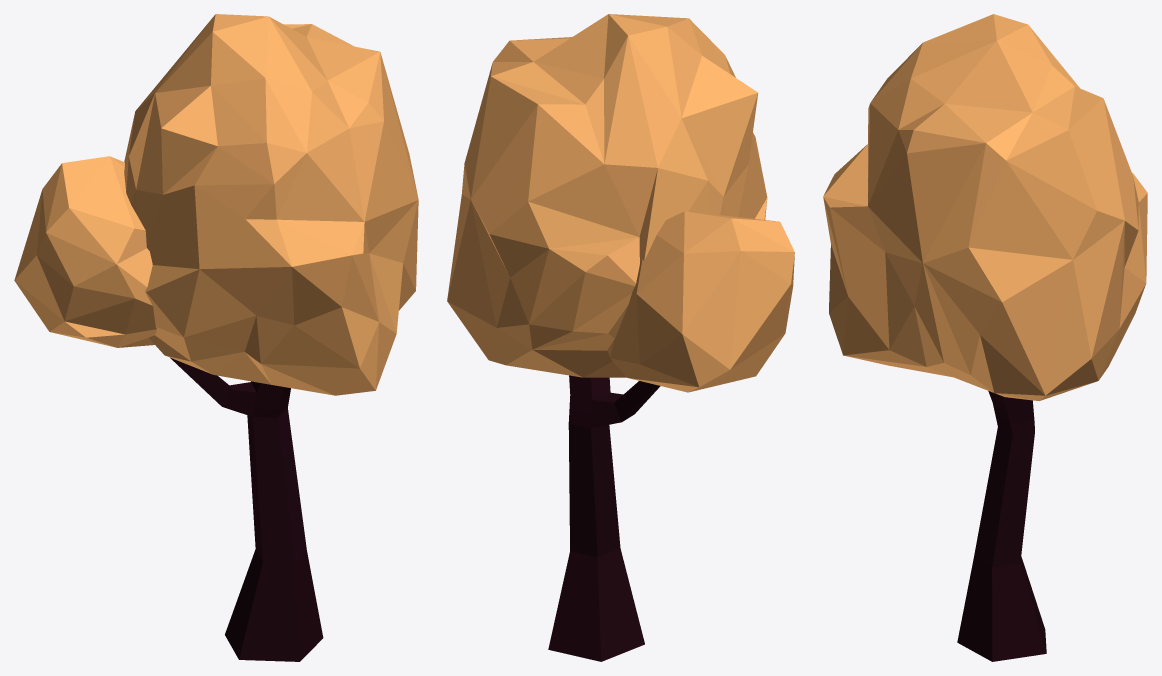
The model's file is Tree3.fbx.
The picture shows the model from 3 angles, left to right: view 1: azimuth 30°, elevation 25°; view 2: azimuth 150°, elevation 25°; view 3: azimuth 270°, elevation 25°; orthographic projection. The views are drawn at different scales.
Parts seen in each view (by area): view 1: SM_Env_Tree_03; view 2: SM_Env_Tree_03; view 3: SM_Env_Tree_03.
Part boxes in pixels (x1,y1,x2,y2): SM_Env_Tree_03: (14, 14, 418, 661); SM_Env_Tree_03: (447, 14, 794, 661); SM_Env_Tree_03: (823, 14, 1147, 661).
Bounding box in the file's own units: 2.22 × 3.85 × 1.89.
